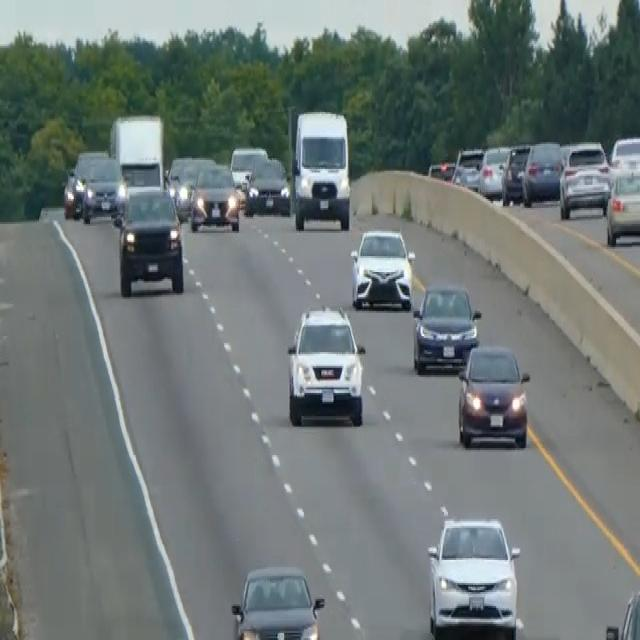car: (425, 514, 521, 638), (285, 300, 365, 426), (456, 341, 530, 448), (230, 564, 325, 638), (411, 279, 481, 373), (349, 226, 415, 311), (558, 140, 610, 218), (189, 162, 240, 233), (165, 153, 215, 219), (63, 149, 106, 219), (81, 153, 123, 224), (605, 160, 639, 245), (521, 139, 564, 206), (244, 155, 290, 215), (229, 144, 267, 196), (501, 143, 530, 205), (604, 587, 639, 638), (478, 144, 510, 197), (451, 144, 484, 190), (609, 133, 639, 171), (61, 165, 79, 219), (427, 158, 455, 182)
jeep: (115, 181, 185, 299)
minibus: (289, 107, 352, 231)
